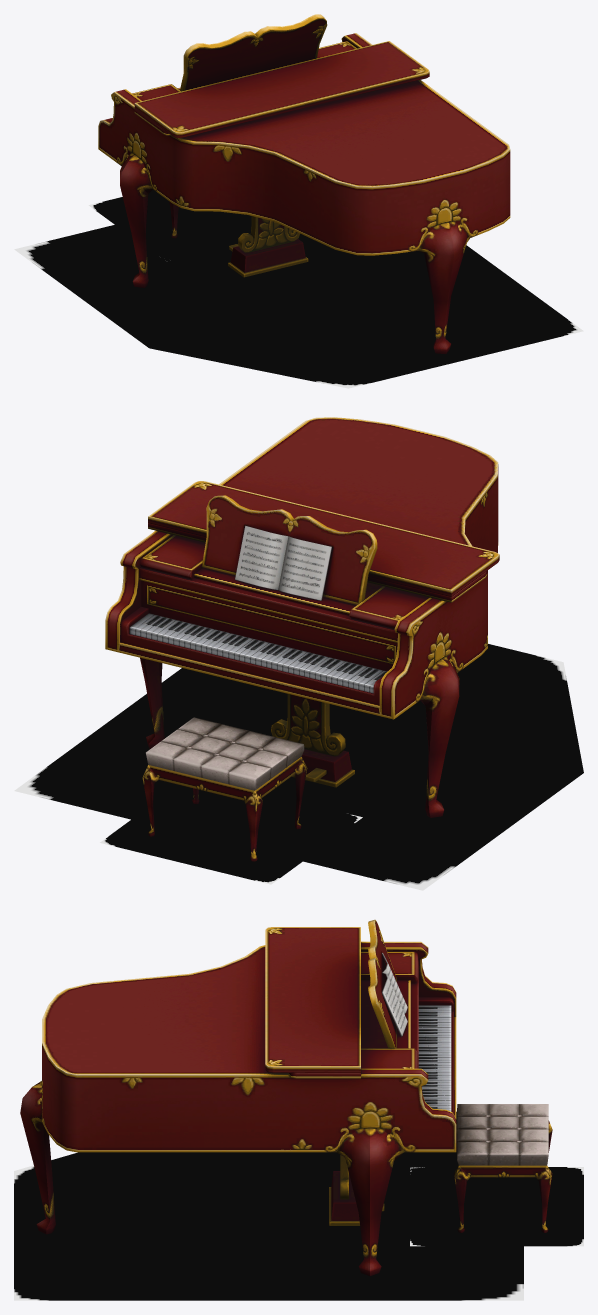
File: jj_ty_piano02_03.FBX
3 renders of one model, top to bottom at view 1: azimuth 30°, elevation 25°; view 2: azimuth 150°, elevation 25°; view 3: azimuth 270°, elevation 25°, orthographic. The views are drawn at different scales.
Parts seen in each view (by area): view 1: jj_ty_piano02_01, shadow; view 2: jj_ty_piano02_01, shadow; view 3: jj_ty_piano02_01, shadow.
Part boxes in pixels (x1=…): jj_ty_piano02_01: x1=98, y1=14, x2=510, y2=354; shadow: x1=14, y1=189, x2=583, y2=388; jj_ty_piano02_01: x1=105, y1=417, x2=499, y2=861; shadow: x1=14, y1=644, x2=583, y2=890; jj_ty_piano02_01: x1=20, y1=919, x2=552, y2=1275; shadow: x1=14, y1=1111, x2=583, y2=1300.
Size of the model in its own units: 184 by 116 by 235.
Materials: 2 (2 with a texture image).
